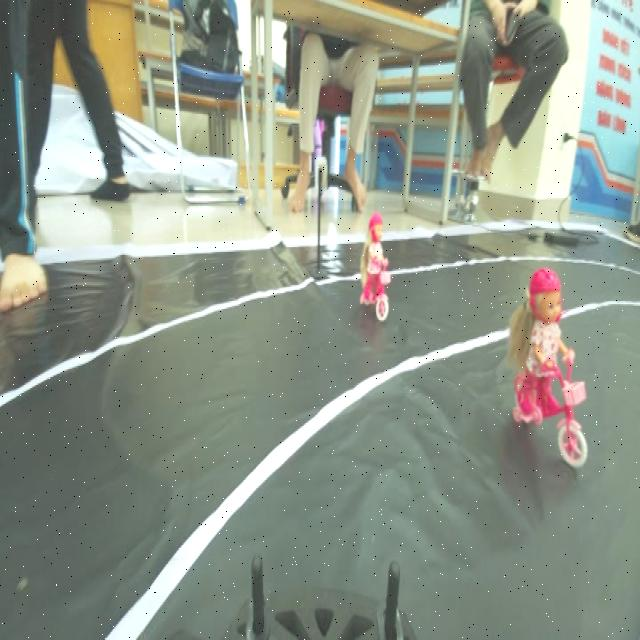pedestrian: (497, 260, 595, 475), (354, 202, 400, 333)
